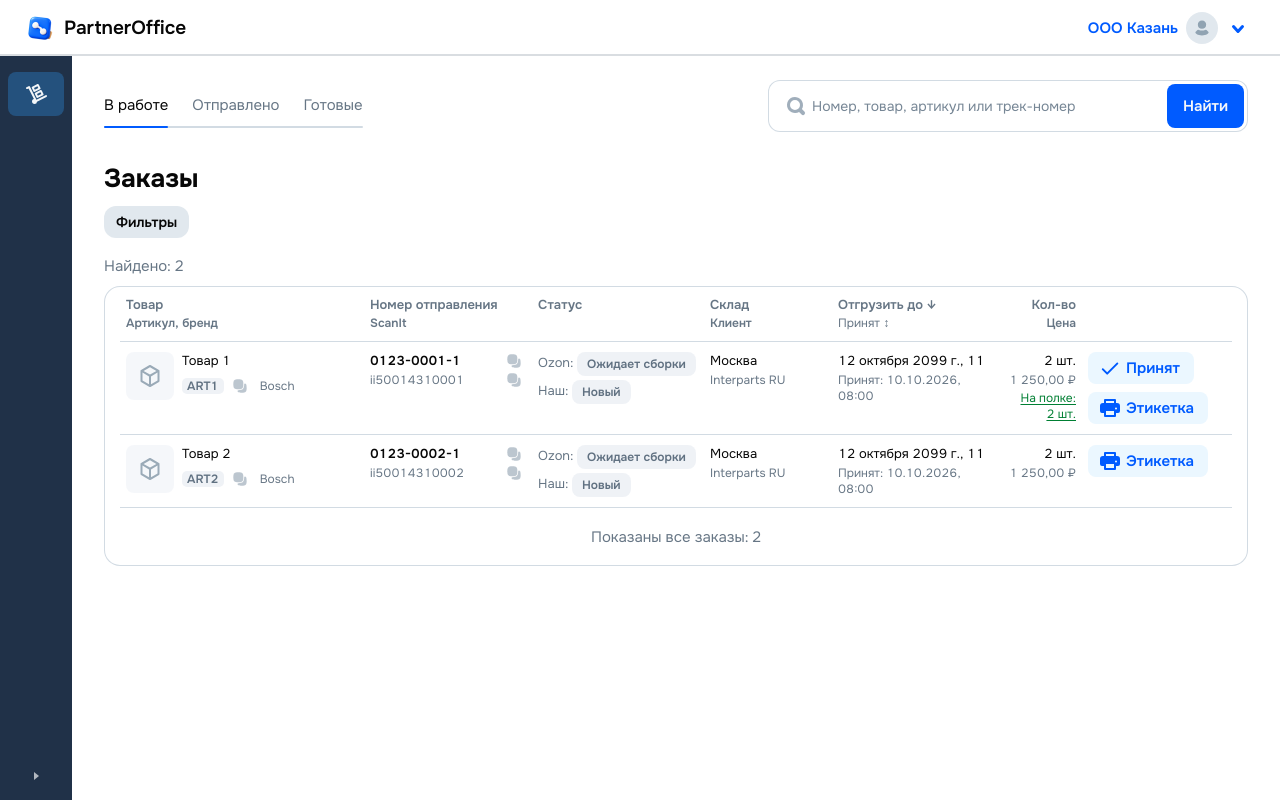
it: Статус Studio2: «Принят» → «Отгрузить» › полка: зелёным «На полке» у количества; «Принят» предупреждает о резерве и показывает зарезервированное
What coordinates should you click on to do the following:
click the button "Принят"
I would click on:
 (1141, 368)
Its box is [1088, 352, 1194, 384].
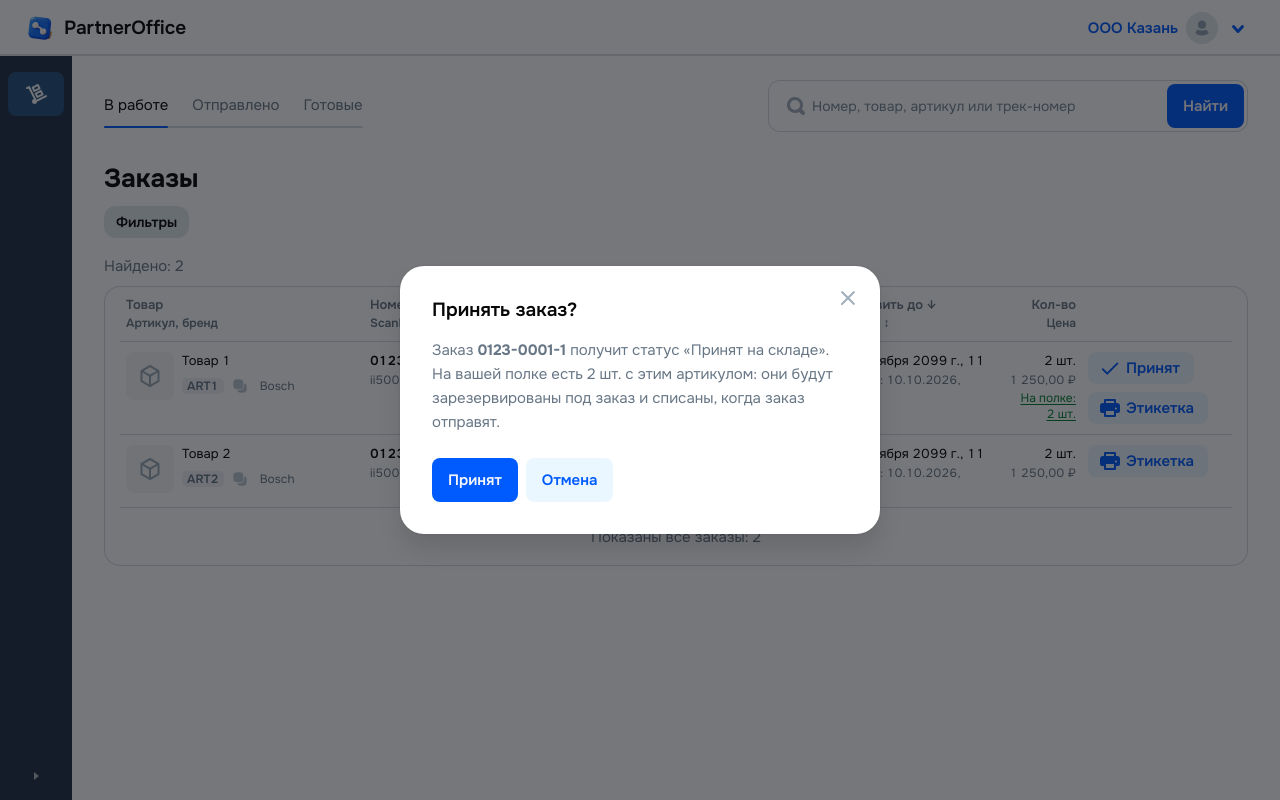
Check: the dialog "Принять заказ?" shows "На вашей полке есть 2 шт. с этим артикулом: они будут зарезервированы под заказ", box [432, 364, 833, 432]
What coordinates should you click on to do the following:
click the button "Принят"
I would click on:
 (475, 480)
Its box is [432, 458, 518, 502].
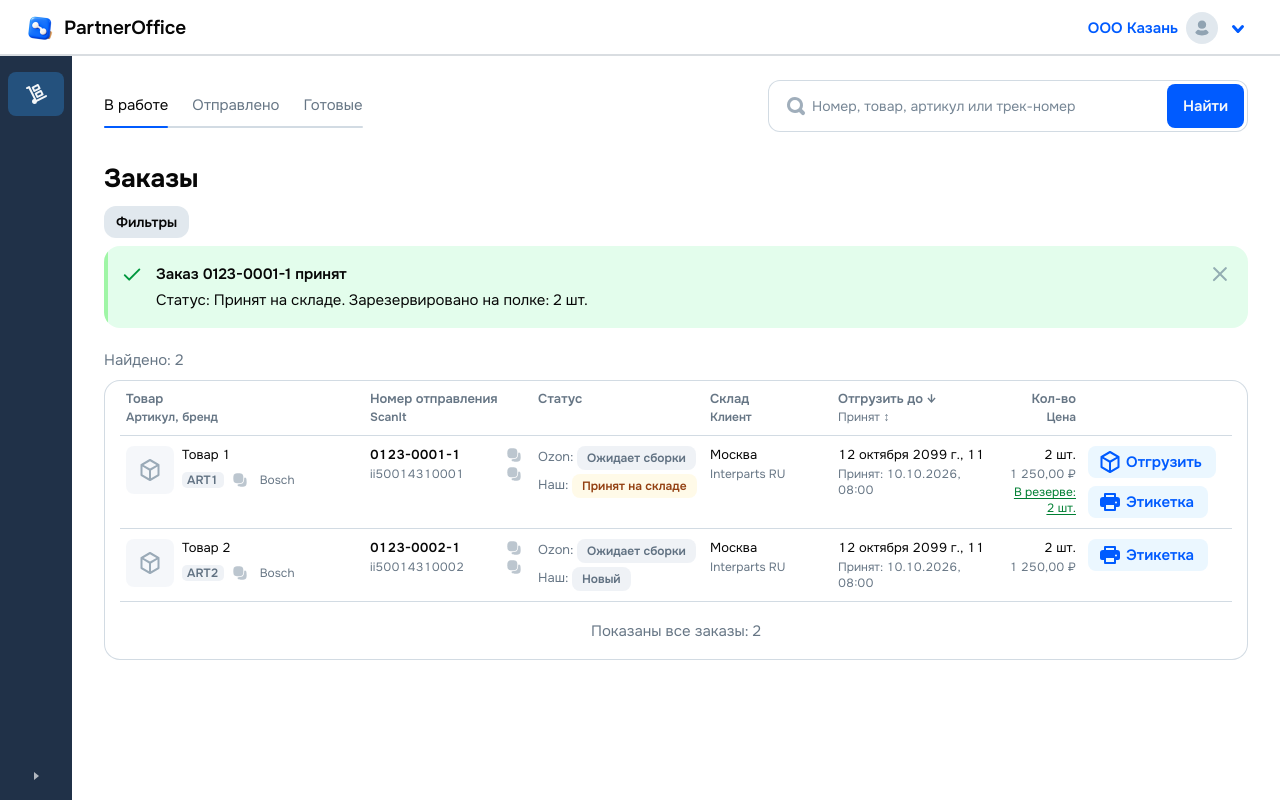
Check: the text "Статус: Принят на складе. Зарезервировано на полке: 2 шт." is shown, box [156, 288, 588, 312]
Check: the link "В резерве: 2 шт." is shown, box [1014, 484, 1076, 516]
